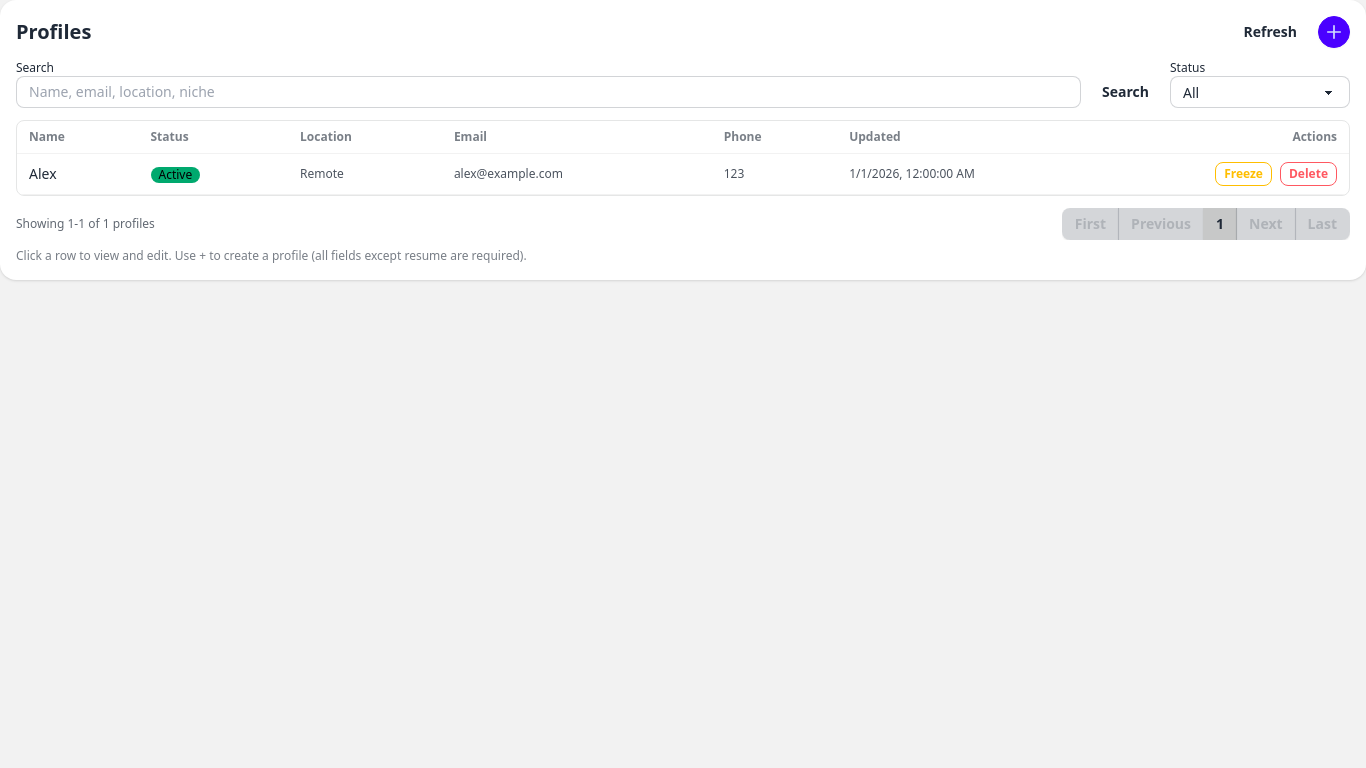
Scenario: ProfilesPage › shows delete modal and removes profile after confirmation
Check: the text "Alex" is shown, box left=17, top=154, right=138, bottom=194
Click the button "Delete" at (1308, 174), box left=1280, top=162, right=1337, bottom=186
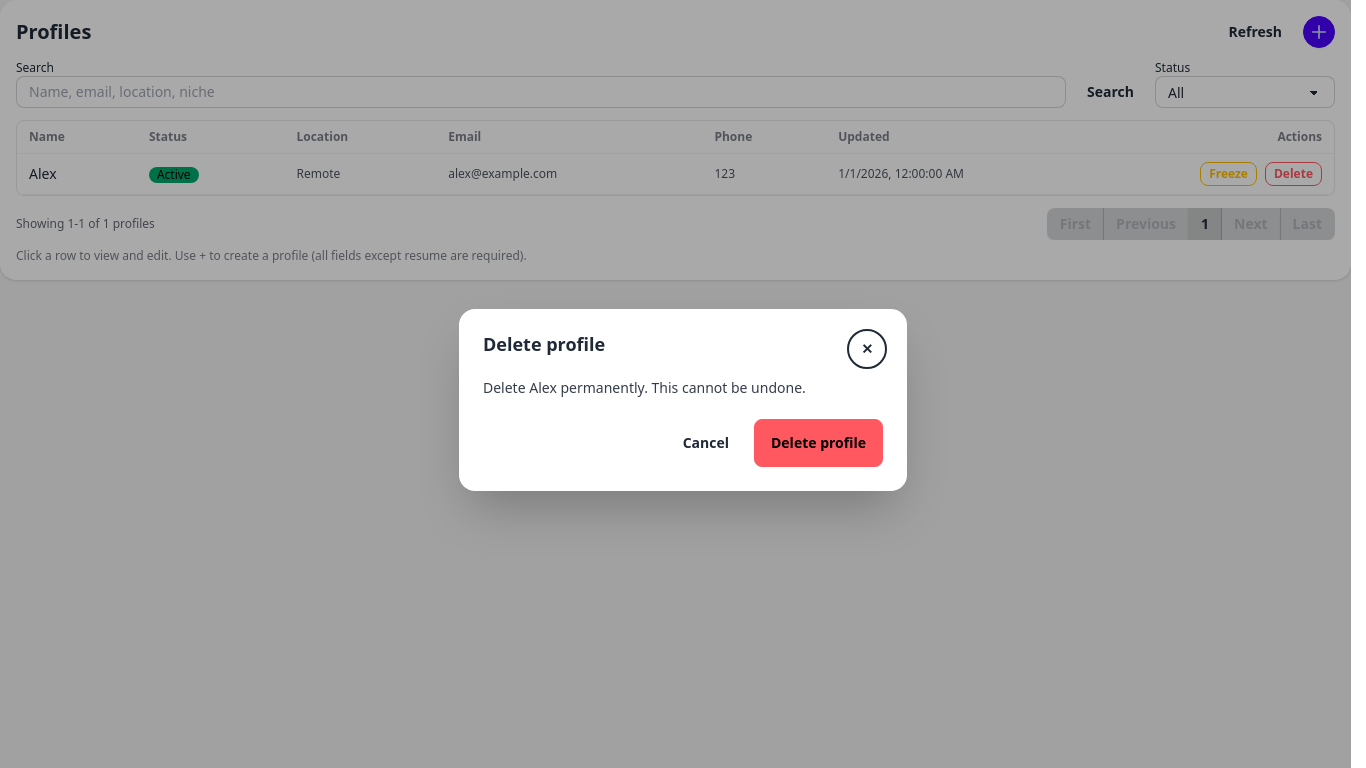
Check: the heading "Delete profile" is shown, box left=483, top=333, right=605, bottom=355
Check: the text "Delete Alex permanently. This cannot be undone." is shown, box left=483, top=378, right=806, bottom=397
Click the button "Delete profile" at (818, 443), box left=754, top=419, right=883, bottom=467
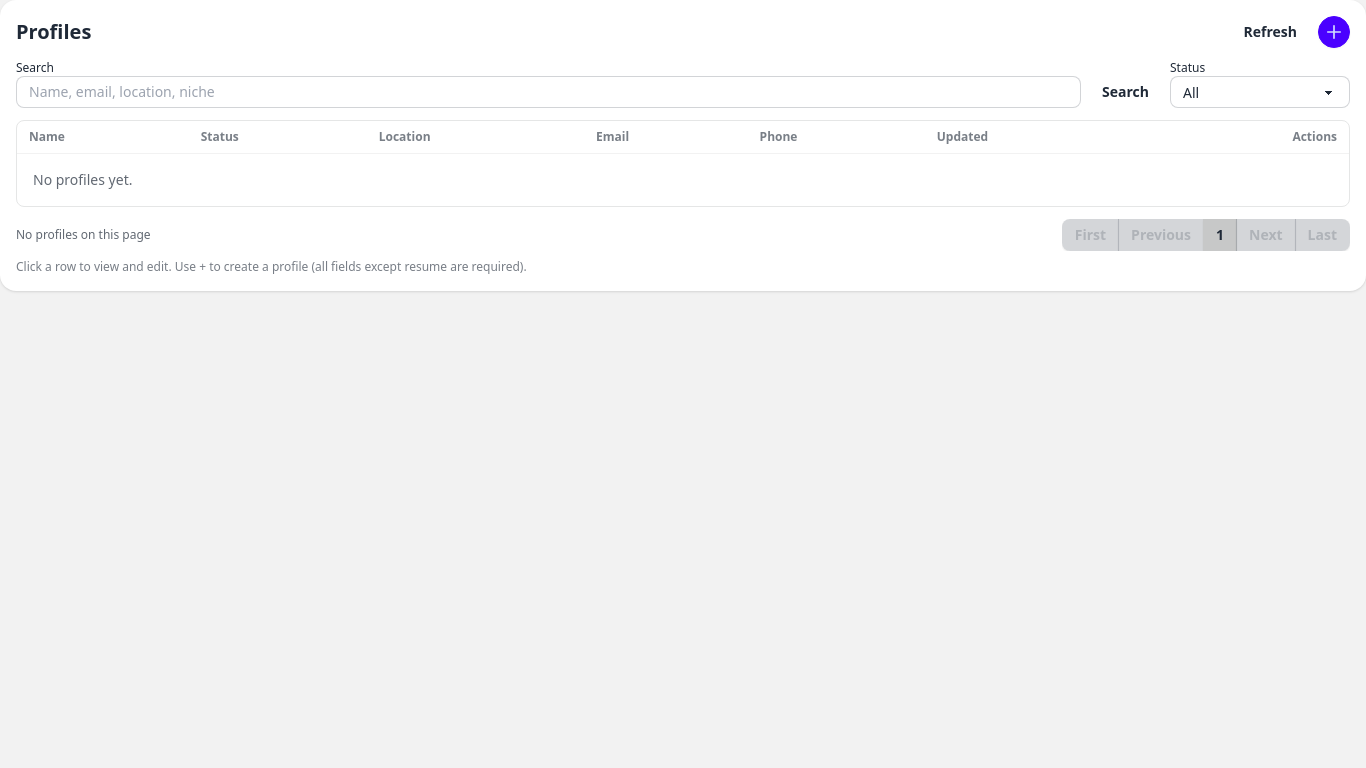
Check: the text "No profiles yet." is shown, box left=33, top=170, right=132, bottom=189
